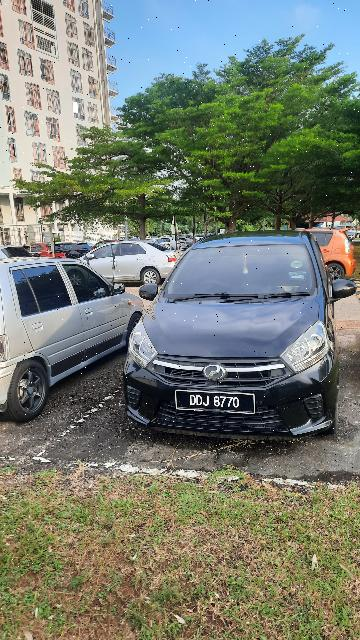License_Plate: (177, 390, 249, 414)
car: (134, 227, 350, 437), (2, 249, 149, 422), (80, 241, 182, 287), (290, 226, 356, 280), (54, 244, 96, 260), (2, 247, 40, 260), (157, 238, 189, 252), (350, 231, 360, 245)
